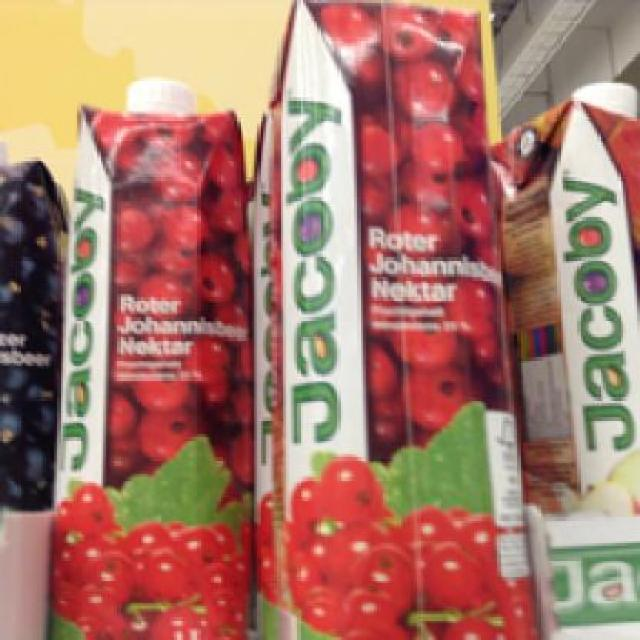Juice: (261, 0, 535, 635), (48, 74, 255, 637)
